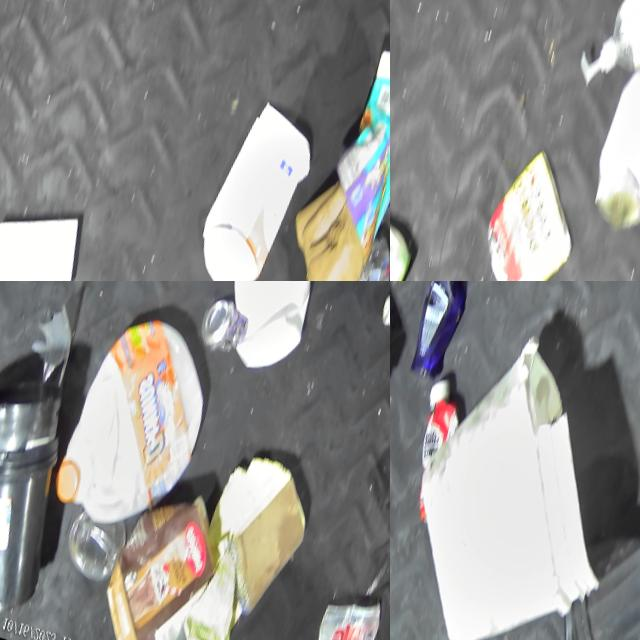can: (581, 36, 640, 238), (196, 287, 248, 352)
milk_jug: (390, 303, 640, 640), (48, 293, 222, 544), (188, 81, 321, 281), (196, 281, 336, 378)
non_white_jug: (92, 470, 227, 640), (0, 354, 85, 621), (165, 499, 263, 640)
plastic_bottle: (325, 217, 390, 281)
